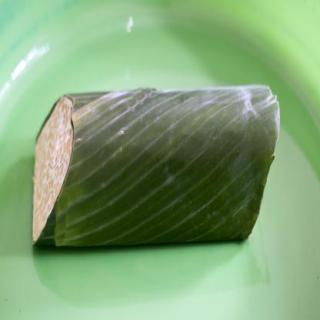Tempe: (28, 86, 282, 252)
